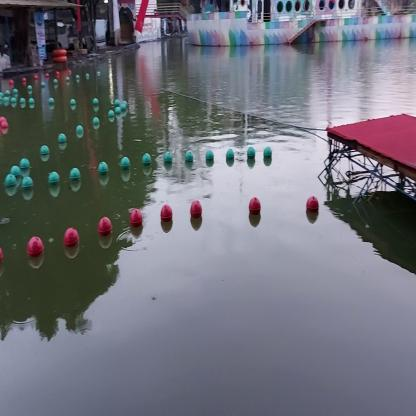green_buoy: (11, 164, 23, 186), (22, 174, 33, 197), (98, 162, 109, 184), (57, 131, 68, 151), (49, 170, 59, 192), (6, 174, 16, 194), (22, 155, 31, 177), (41, 145, 50, 162), (142, 154, 152, 169), (120, 157, 130, 172), (264, 146, 272, 164), (226, 147, 235, 163), (205, 148, 214, 164), (71, 168, 80, 184), (247, 147, 255, 162), (186, 149, 193, 166), (76, 126, 84, 139), (91, 116, 99, 128), (164, 154, 172, 166)
red_buoy: (26, 231, 46, 267), (62, 223, 80, 252), (306, 195, 321, 220), (99, 212, 113, 238), (249, 197, 261, 221), (159, 206, 172, 228), (131, 206, 142, 230), (191, 200, 202, 221)
